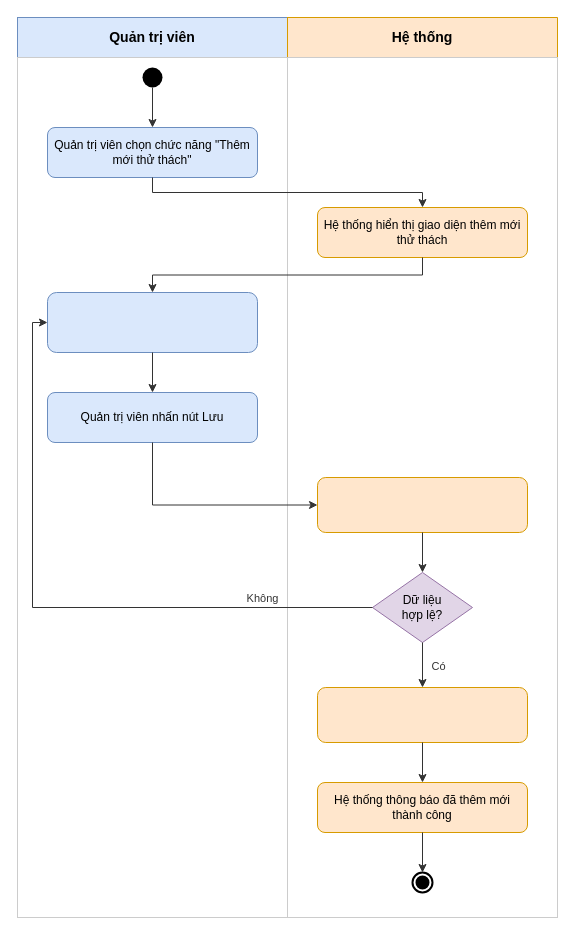
Image size: 575x935. Some labels were removed from this diagram. Each missing label, with the centre of its shape:
Hệ thống kiểm tra thông tin và xác nhận tính hợp lệ của dữ liệu: the point at 422,504
Hệ thống nhập thông tin mới vào CSDL (Firebase): the point at 422,714
Quản trị viên nhập thông tin thử thách mới (Tiêu đề, Mô tả, Mã màu, Từ khóa AI): the point at 152,322
